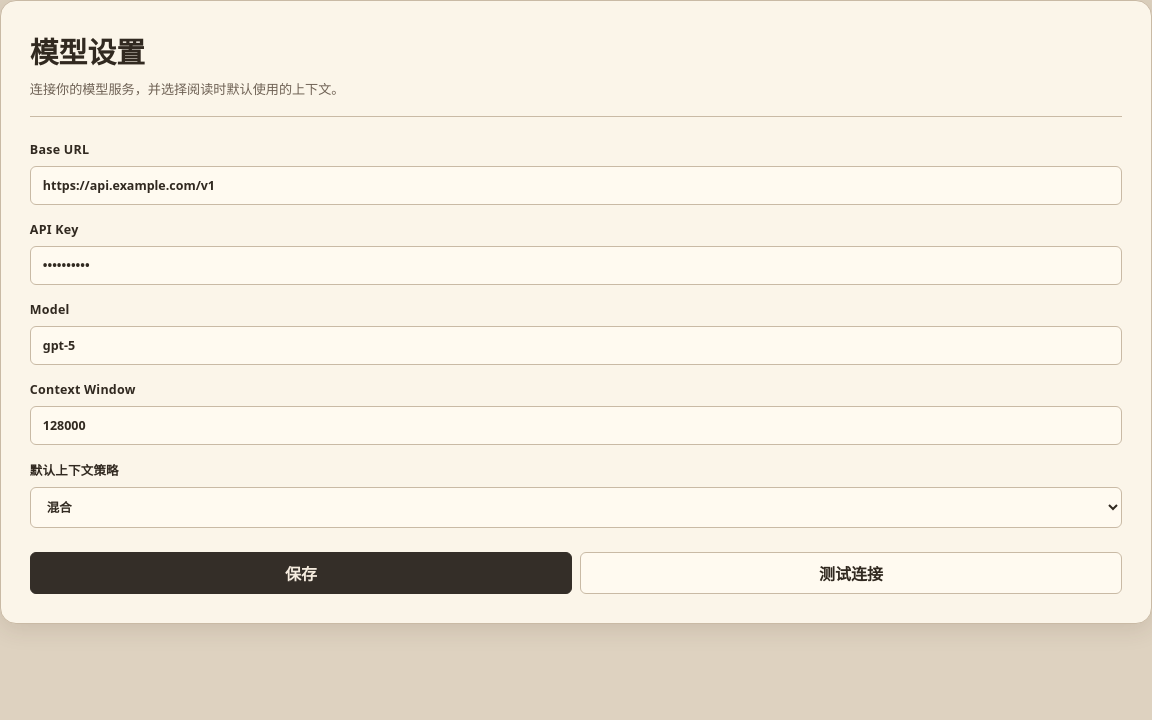
Test: SettingsPanel › 下一次操作失败时清除旧的成功反馈
Expected: the field showing "gpt-5" is shown, [30, 326, 1122, 365]
Step 1. Click the button "保存" → click(301, 573), box [30, 552, 572, 594]
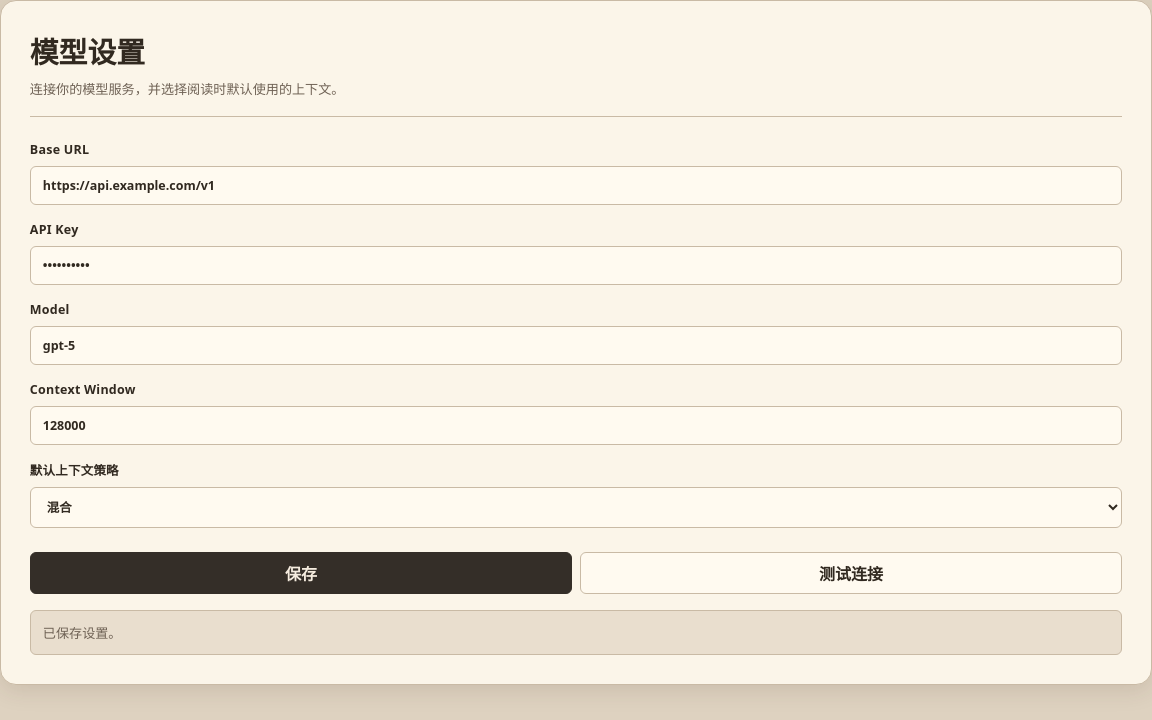
Now the message shows "已保存设置", box [43, 624, 122, 642]
Step 2. Click the button "测试连接" → click(851, 573), box [580, 552, 1122, 594]
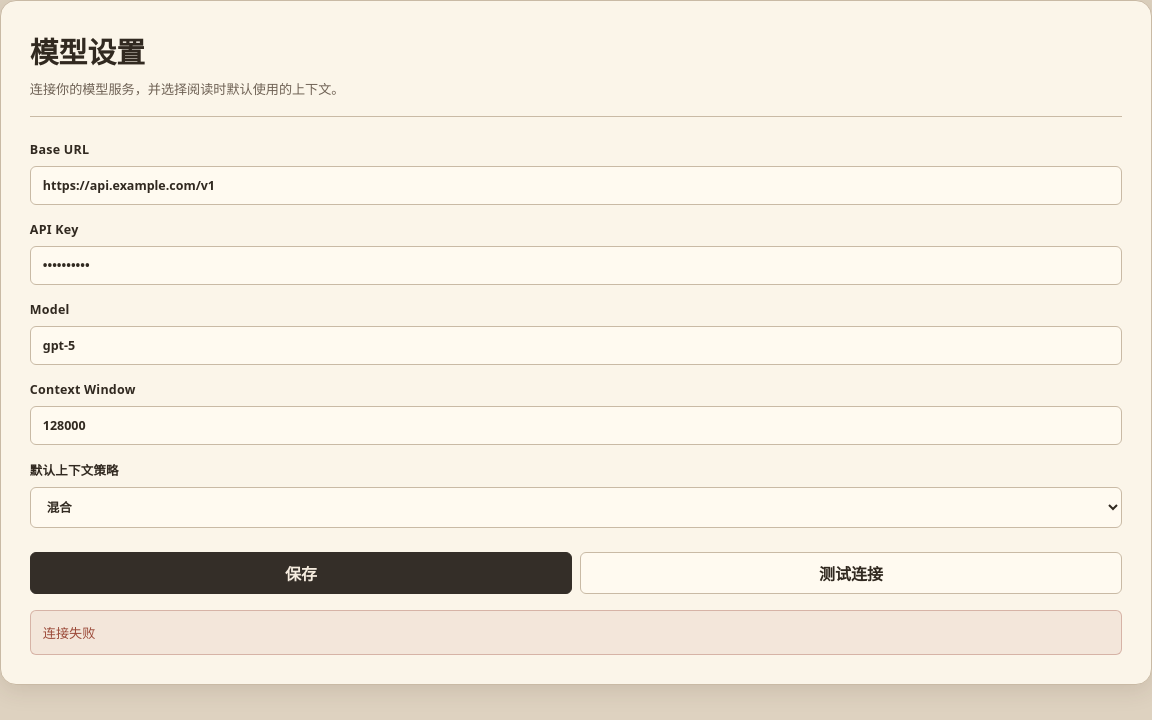
Now the message reads "连接失败", box [43, 624, 95, 642]
Now the text "已保存设置。" is gone
